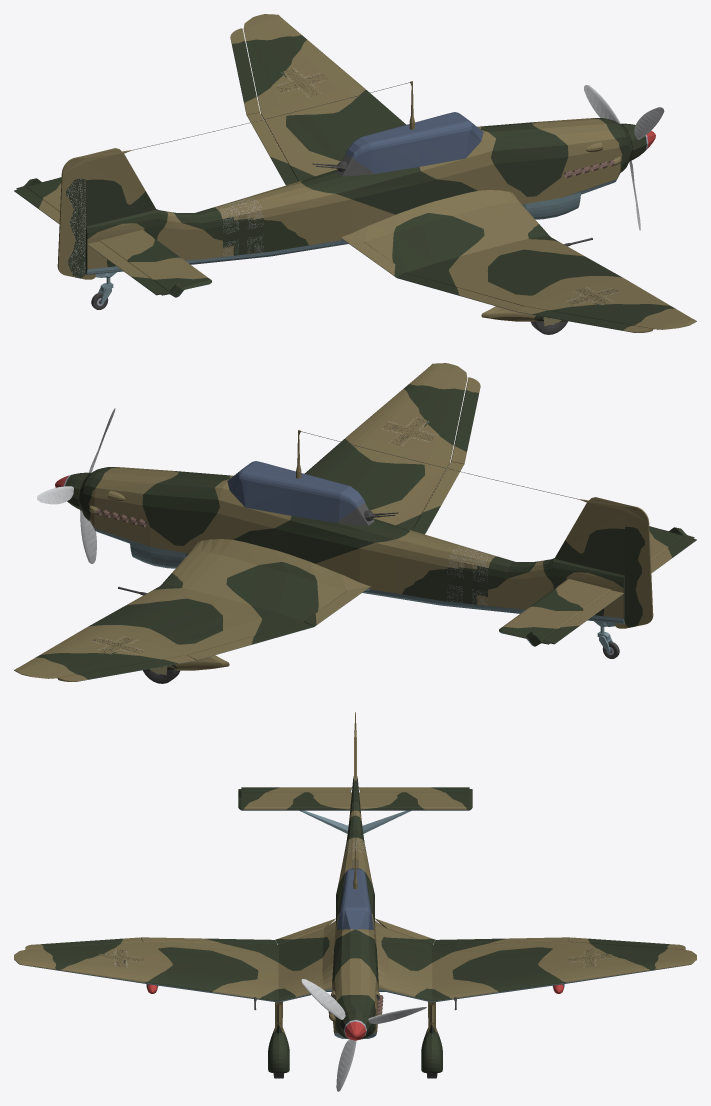
3 views of the same model, one above another, from view 1: azimuth 30°, elevation 25°; view 2: azimuth 150°, elevation 25°; view 3: azimuth 270°, elevation 25° (orthographic). The views are drawn at different scales.
Parts seen in each view (by area): view 1: mesh71.002_mesh71-geometry, mesh62.002_mesh62-geometry, mesh36.002_mesh36-geometry, mesh20_mesh20-geometry, mesh68.002_mesh68-geometry, mesh1_mesh1-geometry, mesh45.002_mesh45-geometry, mesh28.001_mesh28-geometry, mesh29.001_mesh29-geometry, mesh54.001_mesh54-geometry, mesh55.001_mesh55-geometry, mesh65.002_mesh65-geometry (+8 smaller); view 2: mesh45.002_mesh45-geometry, mesh36.002_mesh36-geometry, mesh62.002_mesh62-geometry, mesh20_mesh20-geometry, mesh42.002_mesh42-geometry, mesh1_mesh1-geometry, mesh71.002_mesh71-geometry, mesh54.001_mesh54-geometry, mesh55.001_mesh55-geometry, mesh28.001_mesh28-geometry, mesh29.001_mesh29-geometry, mesh39.002_mesh39-geometry (+8 smaller); view 3: mesh36.002_mesh36-geometry, mesh62.002_mesh62-geometry, mesh45.002_mesh45-geometry, mesh71.002_mesh71-geometry, mesh68.002_mesh68-geometry, mesh42.002_mesh42-geometry, mesh20_mesh20-geometry, mesh2_mesh2-geometry, mesh55.001_mesh55-geometry, mesh29.001_mesh29-geometry, mesh65.002_mesh65-geometry, mesh39.002_mesh39-geometry (+3 smaller).
Boxes of the visible parts, x1,y1,x2,y2 form: mesh71.002_mesh71-geometry: (86, 121, 631, 274); mesh62.002_mesh62-geometry: (341, 190, 696, 329); mesh36.002_mesh36-geometry: (243, 14, 406, 181); mesh20_mesh20-geometry: (336, 112, 483, 176); mesh68.002_mesh68-geometry: (100, 230, 211, 297); mesh1_mesh1-geometry: (57, 149, 110, 279); mesh45.002_mesh45-geometry: (112, 118, 618, 213); mesh28.001_mesh28-geometry: (230, 28, 259, 115); mesh29.001_mesh29-geometry: (247, 113, 298, 185); mesh54.001_mesh54-geometry: (515, 306, 653, 332); mesh55.001_mesh55-geometry: (397, 273, 523, 311); mesh65.002_mesh65-geometry: (87, 241, 167, 295); mesh45.002_mesh45-geometry: (79, 470, 624, 623); mesh36.002_mesh36-geometry: (14, 539, 369, 678); mesh62.002_mesh62-geometry: (304, 363, 467, 530); mesh20_mesh20-geometry: (227, 461, 374, 525); mesh42.002_mesh42-geometry: (499, 579, 610, 646); mesh1_mesh1-geometry: (600, 498, 653, 628); mesh71.002_mesh71-geometry: (92, 467, 598, 562); mesh54.001_mesh54-geometry: (451, 377, 480, 464); mesh55.001_mesh55-geometry: (412, 462, 463, 534); mesh28.001_mesh28-geometry: (57, 655, 195, 681); mesh29.001_mesh29-geometry: (187, 622, 313, 660); mesh39.002_mesh39-geometry: (543, 590, 623, 644); mesh36.002_mesh36-geometry: (375, 920, 696, 1002); mesh62.002_mesh62-geometry: (14, 920, 335, 1002); mesh45.002_mesh45-geometry: (355, 723, 383, 1039); mesh71.002_mesh71-geometry: (328, 723, 355, 1039); mesh68.002_mesh68-geometry: (238, 789, 351, 833); mesh42.002_mesh42-geometry: (359, 789, 472, 833); mesh20_mesh20-geometry: (337, 868, 373, 929); mesh2_mesh2-geometry: (339, 1009, 371, 1040); mesh55.001_mesh55-geometry: (140, 937, 277, 944); mesh29.001_mesh29-geometry: (433, 937, 570, 944); mesh65.002_mesh65-geometry: (241, 787, 352, 792); mesh39.002_mesh39-geometry: (358, 787, 469, 792).
Bounding box in the file's own units: 0.6118 × 0.2388 × 0.7541.
Materials: 15 (2 with a texture image).
